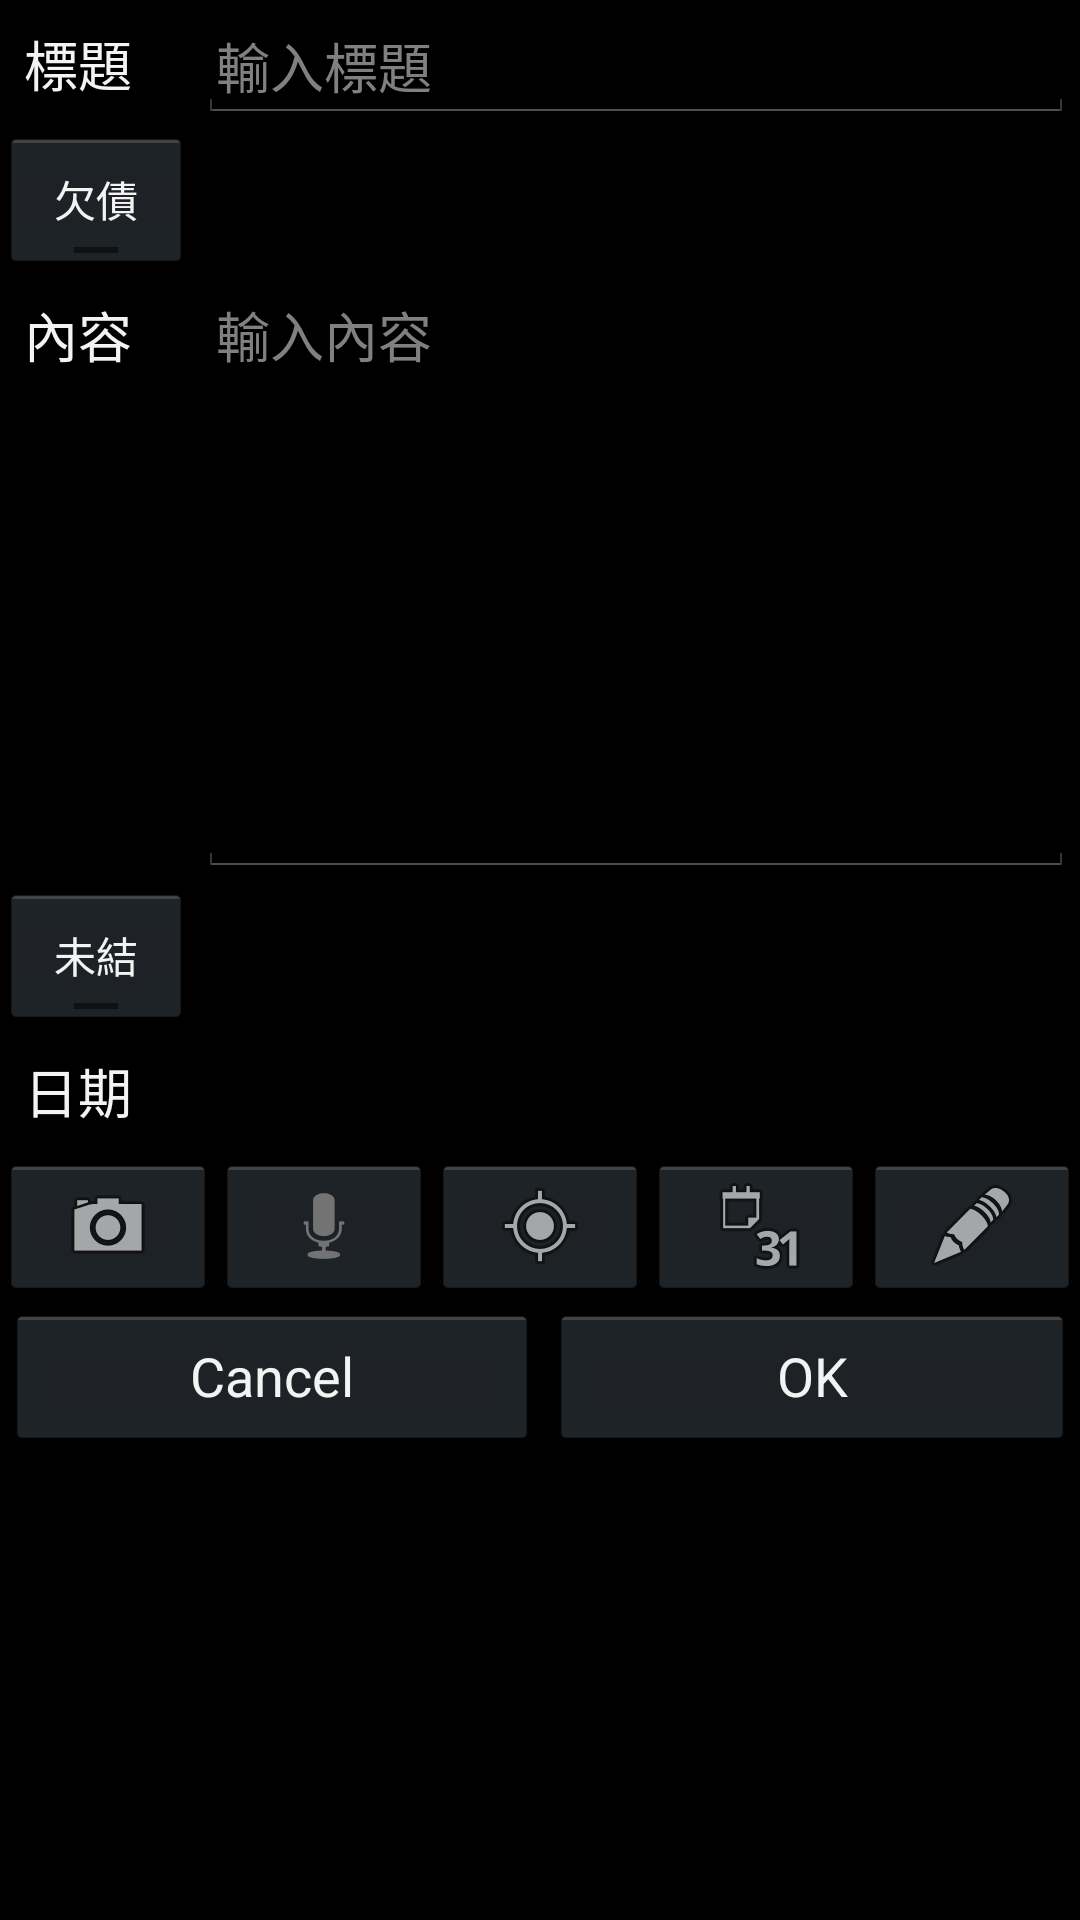

Icons on this 1080px×1920px Android screen, each with its box as region(x1, y1, x2, y2):
camera: region(12, 1167, 204, 1287)
edit: region(876, 1167, 1068, 1287)
month: region(660, 1167, 852, 1287)
mylocation: region(444, 1167, 636, 1287)
speak now: region(228, 1167, 420, 1287)
